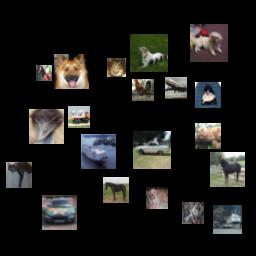airplane: (165, 77, 187, 99)
automobile: (133, 131, 171, 169), (42, 195, 77, 230)
bird: (29, 109, 64, 144), (132, 79, 154, 101), (182, 202, 204, 224)
cat: (195, 123, 221, 149), (6, 162, 32, 188), (195, 82, 221, 108)
dog: (190, 24, 228, 62), (130, 34, 168, 72), (54, 54, 89, 89), (146, 187, 168, 209)
frog: (107, 58, 126, 77)
ship: (81, 134, 116, 169), (213, 205, 242, 234)
truck: (68, 106, 90, 128)
